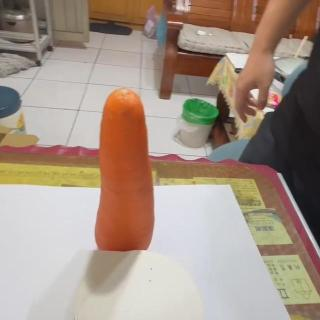carrot: (98, 87, 154, 254)
